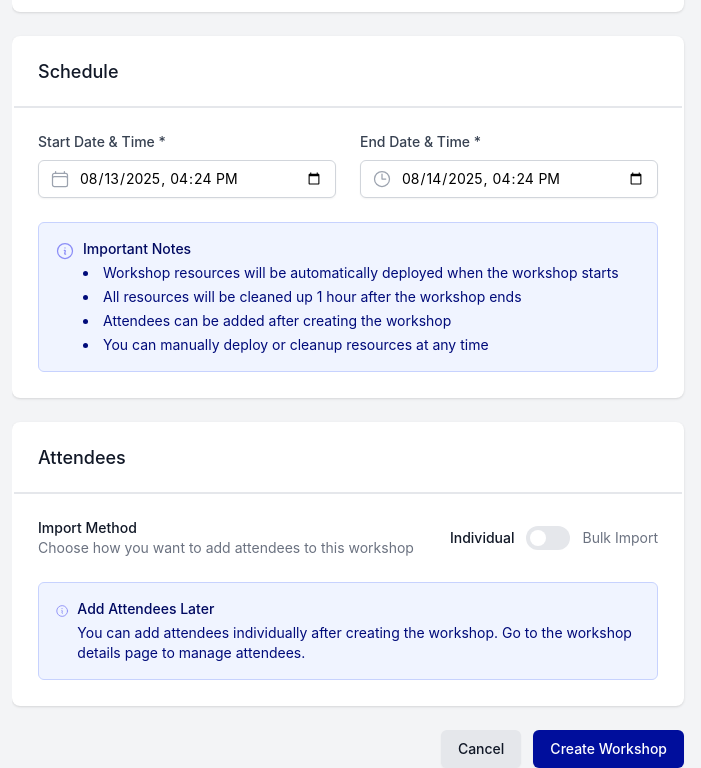
it: CreateWorkshop State Validation › State Consistency Validation › should prevent submission with invalid state
The image size is (701, 768).
(page scrolled)
Note: Submit empty form
Click the button "Create Workshop": (609, 749) [533, 730, 684, 767]
(page scrolled)
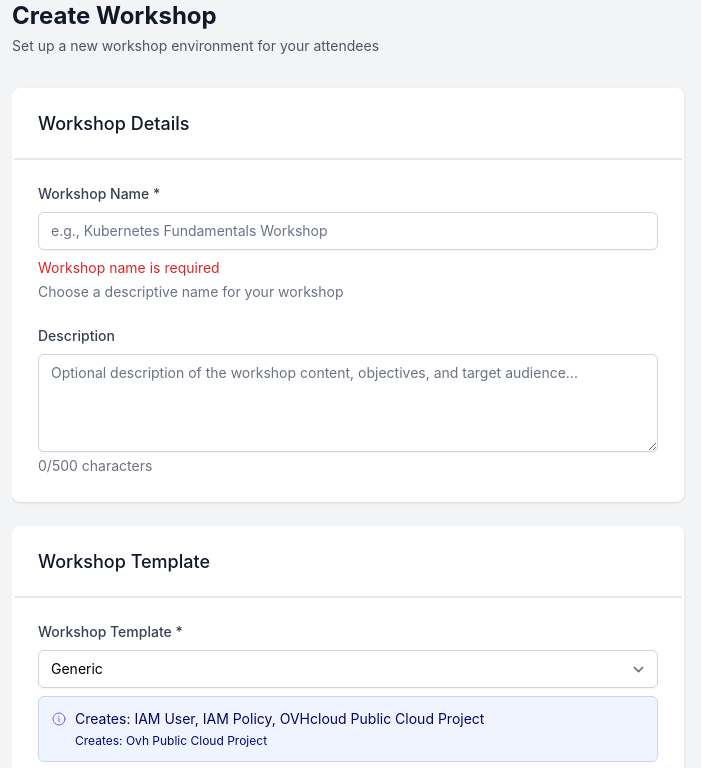
expect the text "Workshop name is required" is shown: met, box [38, 259, 220, 276]
